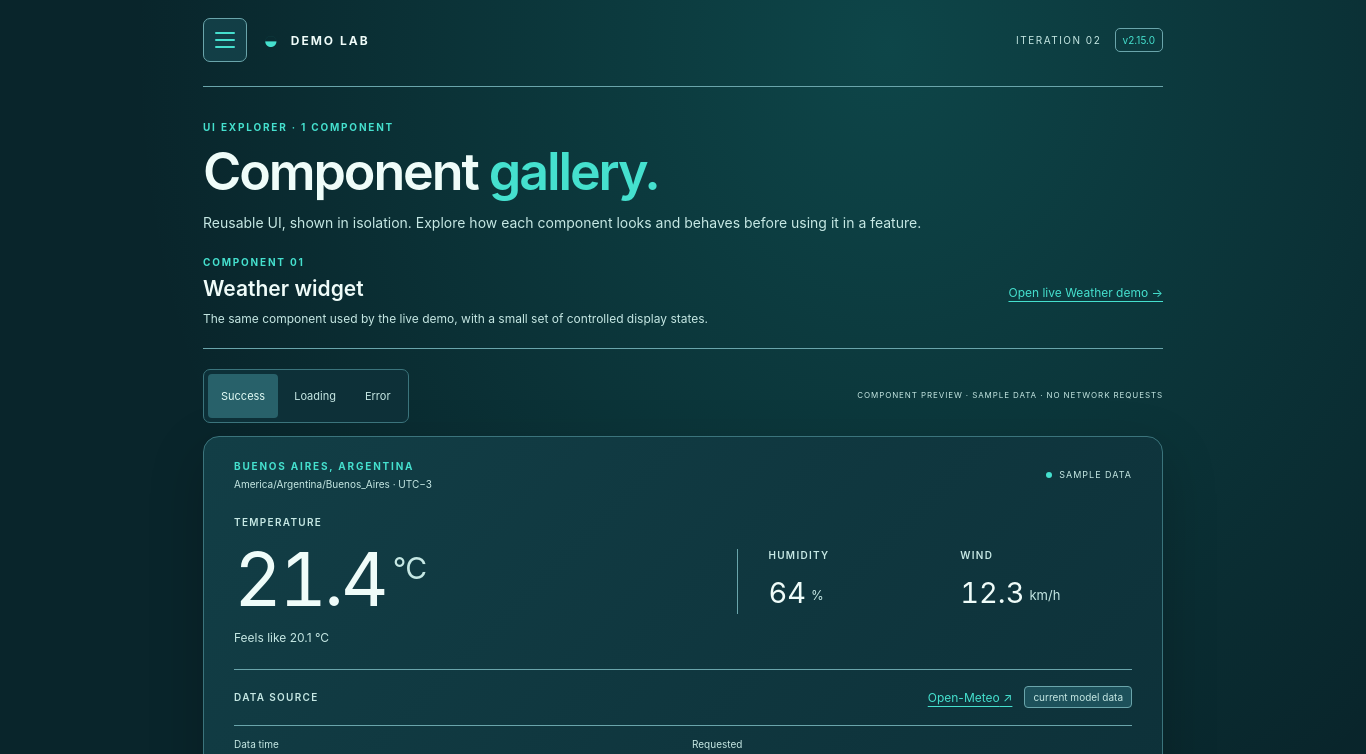
Test: routed demo application › shows gallery states using the shared widget without invoking the live loader
The width and height of the screenshot is (1366, 754).
Expected: the text "COMPONENT PREVIEW · SAMPLE DATA · NO NETWORK REQUESTS" is shown, top-left (857, 388), bottom-right (1163, 403)
Click the button "Loading" at (315,396), box top-left (281, 374), bottom-right (349, 418)
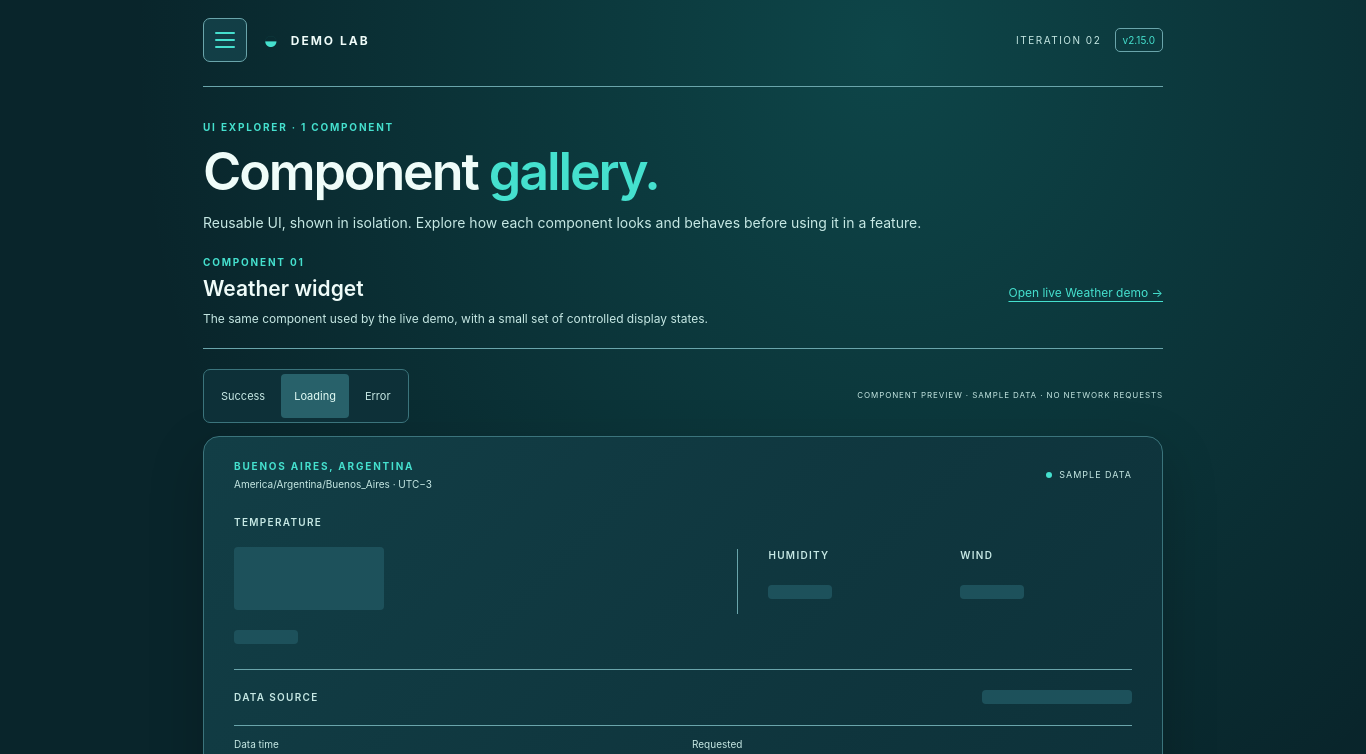
Expected: the button "Loading" is pressed, top-left (281, 374), bottom-right (349, 418)
Click the button "Error" at (378,396), box top-left (352, 374), bottom-right (404, 418)
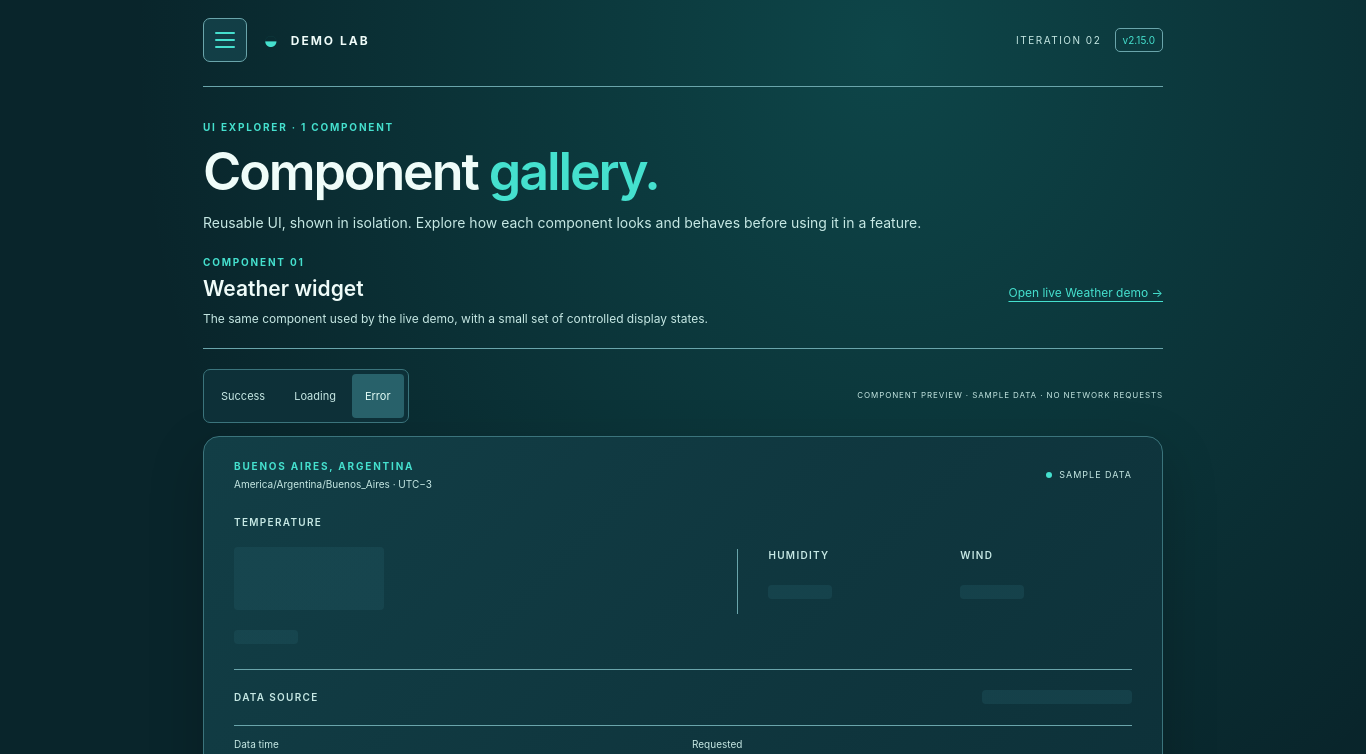
Click the button "Success" at (243,396), box top-left (208, 374), bottom-right (278, 418)
(page scrolled)
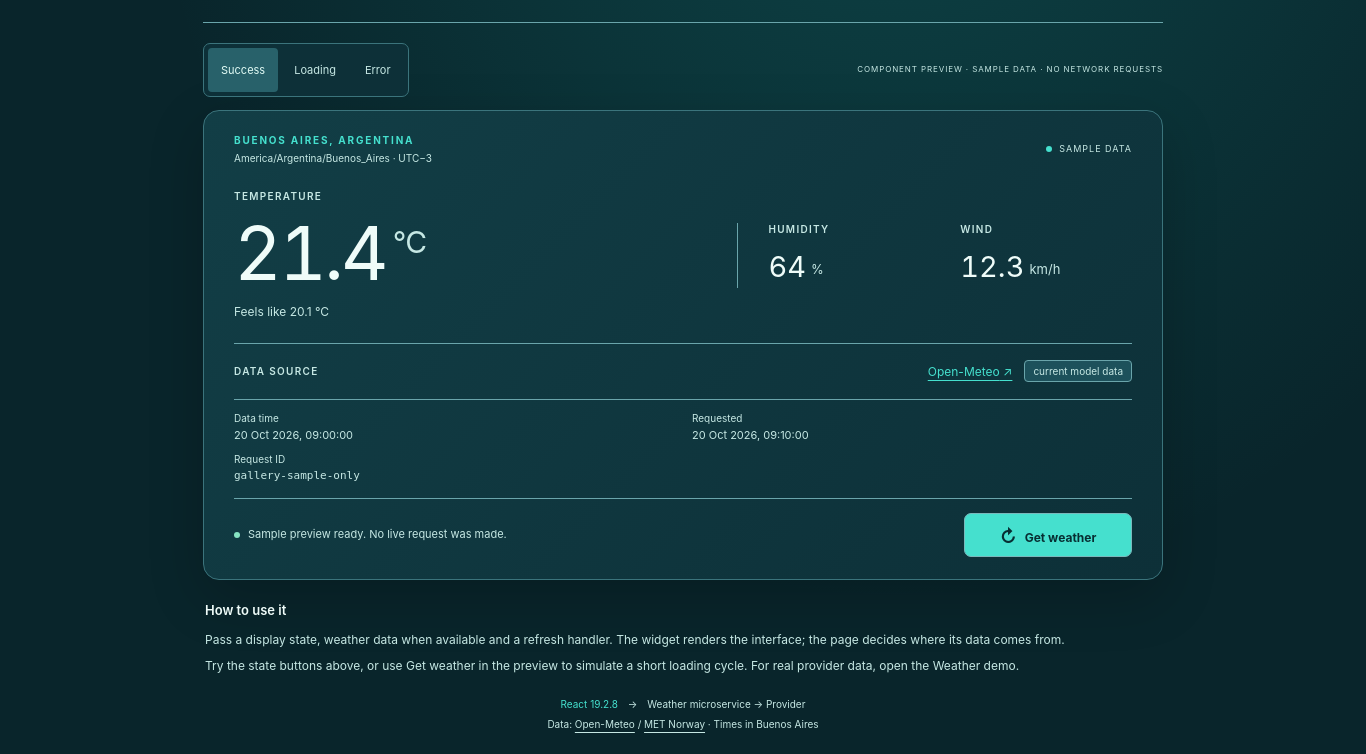
Expected: the message shows "Sample preview ready", top-left (248, 527), bottom-right (507, 541)
